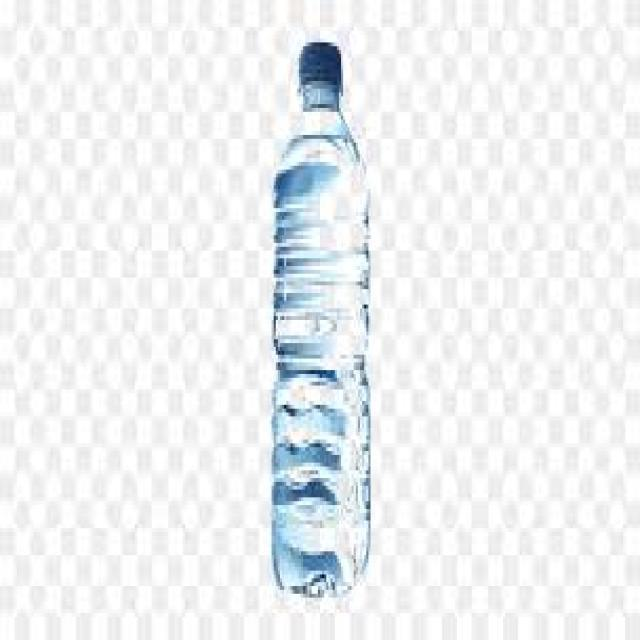Plastic: (270, 42, 370, 596)
